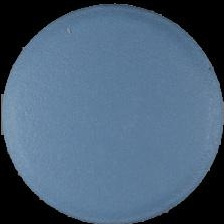0007-4641: (0, 0, 224, 224)
